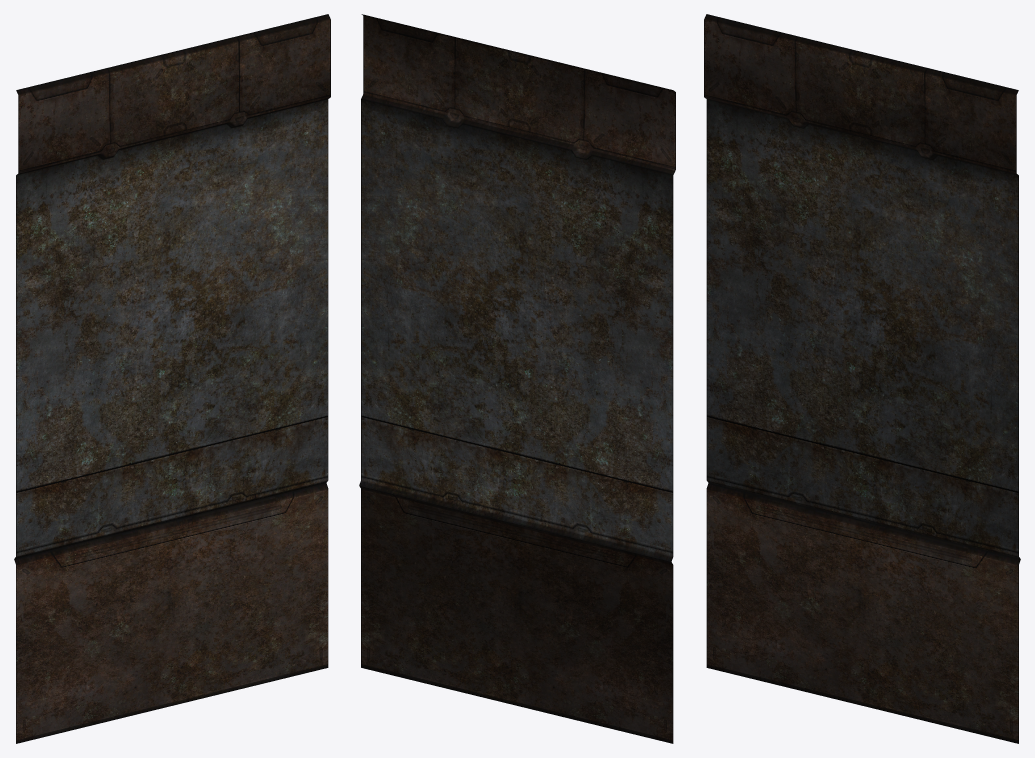
The model's file is datasite_flat01_short_brown_overgrown.dae.
3 views of the same model, side by side, from view 1: azimuth 30°, elevation 25°; view 2: azimuth 150°, elevation 25°; view 3: azimuth 330°, elevation 25° (orthographic).
Visible parts, largest first — view 1: polySurface135; view 2: polySurface135; view 3: polySurface135.
Boxes of the visible parts, x1,y1,x2,y2 form: polySurface135: (14,14,330,743); polySurface135: (359,14,675,743); polySurface135: (704,14,1020,743).
Size of the model in its own units: 2 by 4 by 0.0483.
